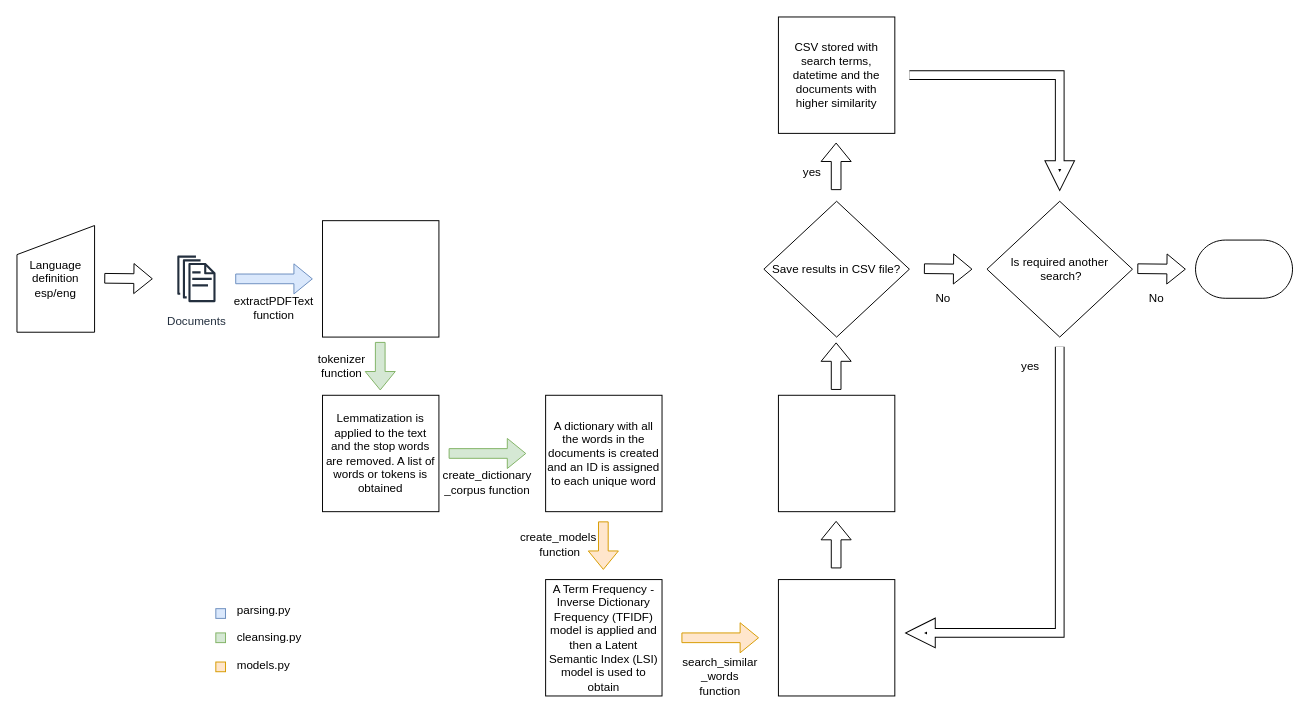
This 1310x714 diagram has some shape labels left out. The shapes that lost their labels are listed below. From the top down, each one's centre as x and y in pixels, then its label:
At (x=380, y=278): "The collection of documents (PDF) is parsed to be readed in python".
At (x=1244, y=268): "End of process".
At (x=836, y=453): "The documents with more similarity to the search words are find".
At (x=836, y=637): "The words or phrase to search is introduced".
